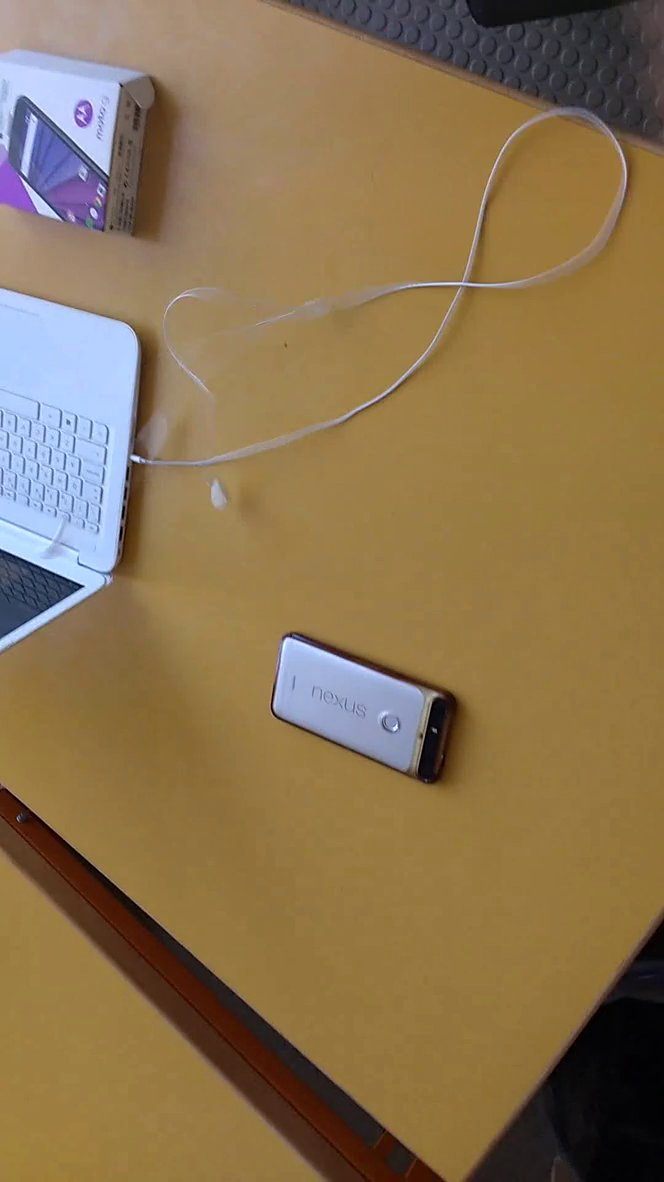phone: (257, 626, 484, 802)
